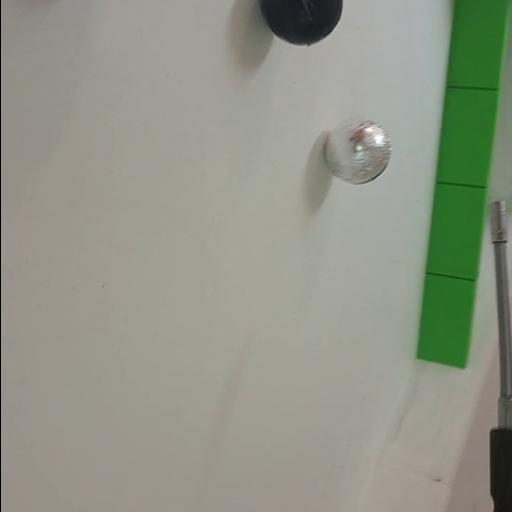alive: (322, 117, 394, 187)
dead: (262, 1, 342, 47)
